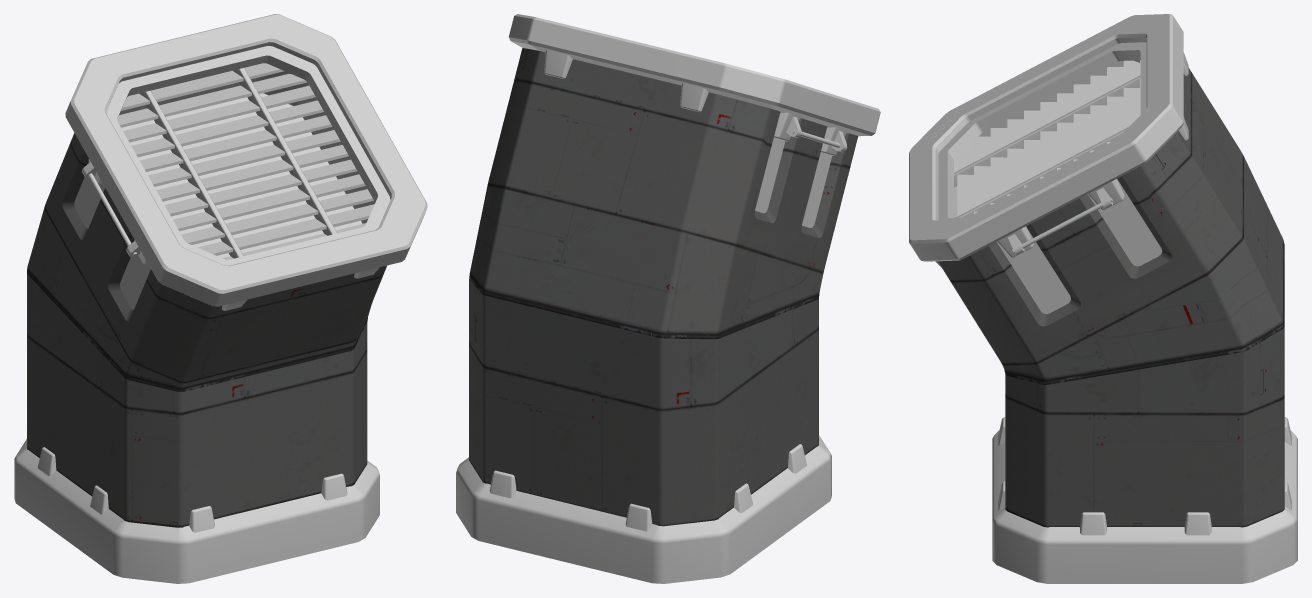
Rendered from Prop_Went_big3.fbx.
The picture shows the model from 3 angles, left to right: view 1: azimuth 30°, elevation 25°; view 2: azimuth 150°, elevation 25°; view 3: azimuth 270°, elevation 25°; orthographic projection. The views are drawn at different scales.
Visible parts, largest first — view 1: polySurface19; view 2: polySurface19; view 3: polySurface19.
Part boxes in pixels (left/top/right/bottom): polySurface19: left=14, top=14, right=427, bottom=583; polySurface19: left=456, top=14, right=880, bottom=583; polySurface19: left=909, top=14, right=1297, bottom=583.
Bounding box in the file's own units: 149 × 248 × 190.
